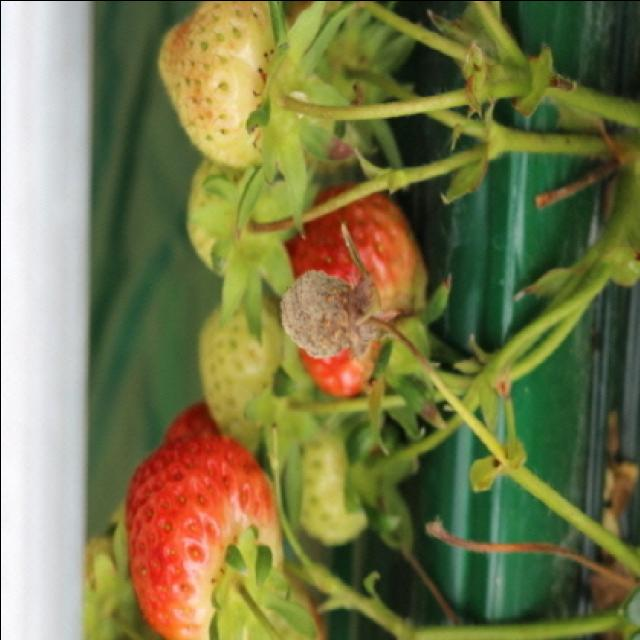Gray Mold: (277, 219, 399, 360)
